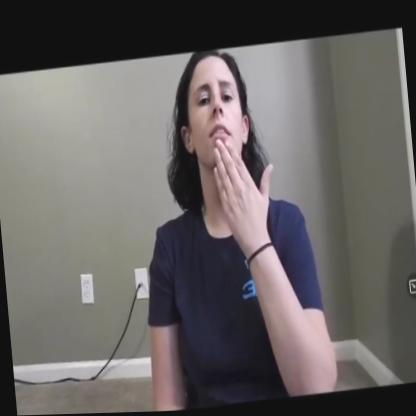ThankYou: (165, 47, 290, 276)
